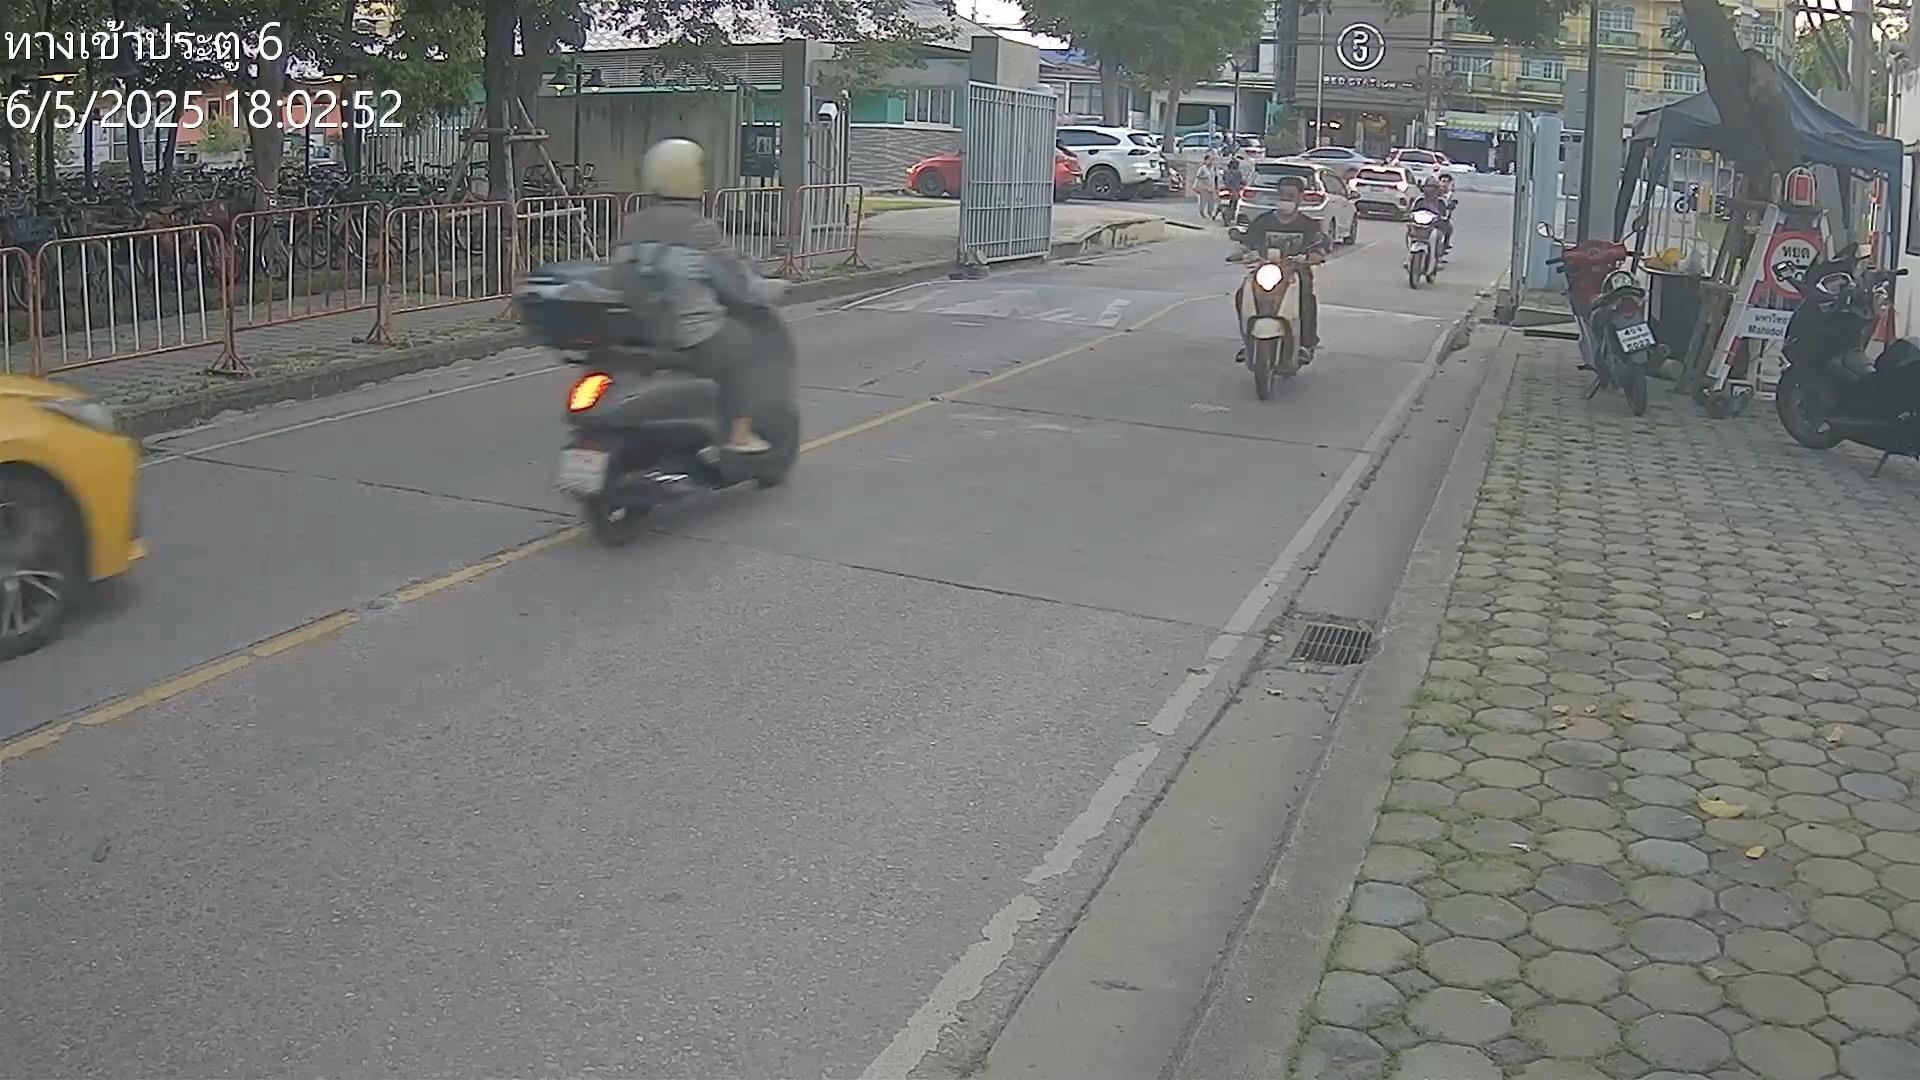With-Helmet: (638, 135, 712, 208), (1422, 175, 1441, 199)
